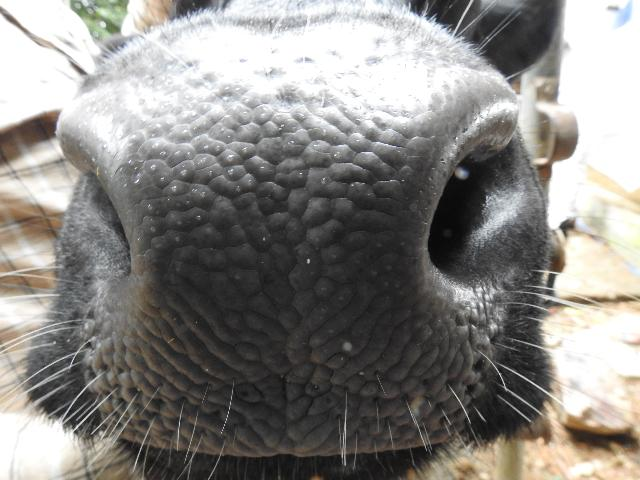Muzzle: (68, 60, 466, 432)
